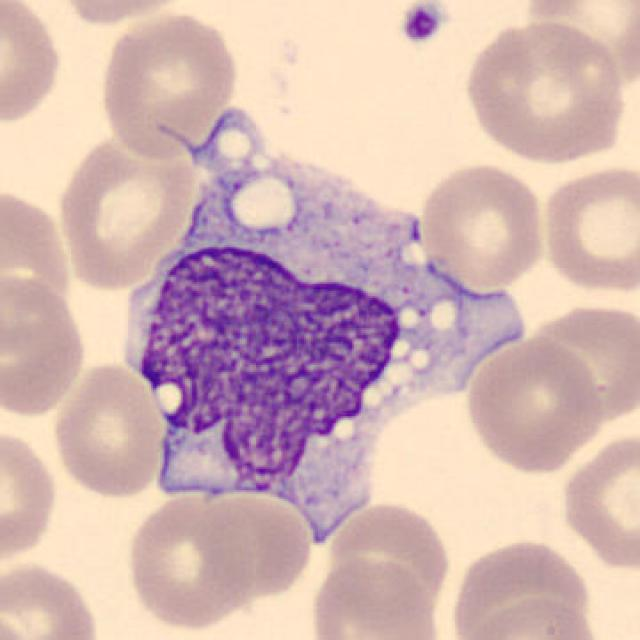Monocyte: (108, 130, 486, 536)
Platelets: (396, 0, 448, 48)
RBC: (459, 16, 629, 166), (53, 128, 203, 292), (94, 7, 242, 160), (462, 333, 606, 476), (123, 488, 260, 633), (414, 158, 550, 292), (48, 360, 167, 500), (322, 499, 455, 622), (447, 534, 598, 640), (186, 486, 316, 604), (0, 270, 91, 421), (537, 160, 638, 296), (306, 552, 444, 640), (556, 426, 638, 574), (164, 569, 332, 640), (0, 181, 76, 331), (519, 0, 640, 86), (0, 423, 60, 569), (0, 0, 67, 130), (0, 557, 103, 640), (454, 594, 606, 640), (50, 0, 201, 28)
